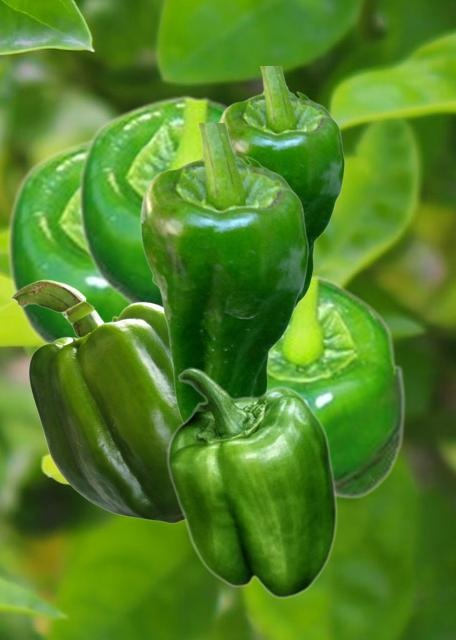bell_pepper: (139, 123, 308, 421), (11, 279, 183, 522), (166, 367, 337, 598), (76, 94, 228, 306), (268, 272, 405, 498), (218, 66, 344, 307), (5, 134, 126, 344)
